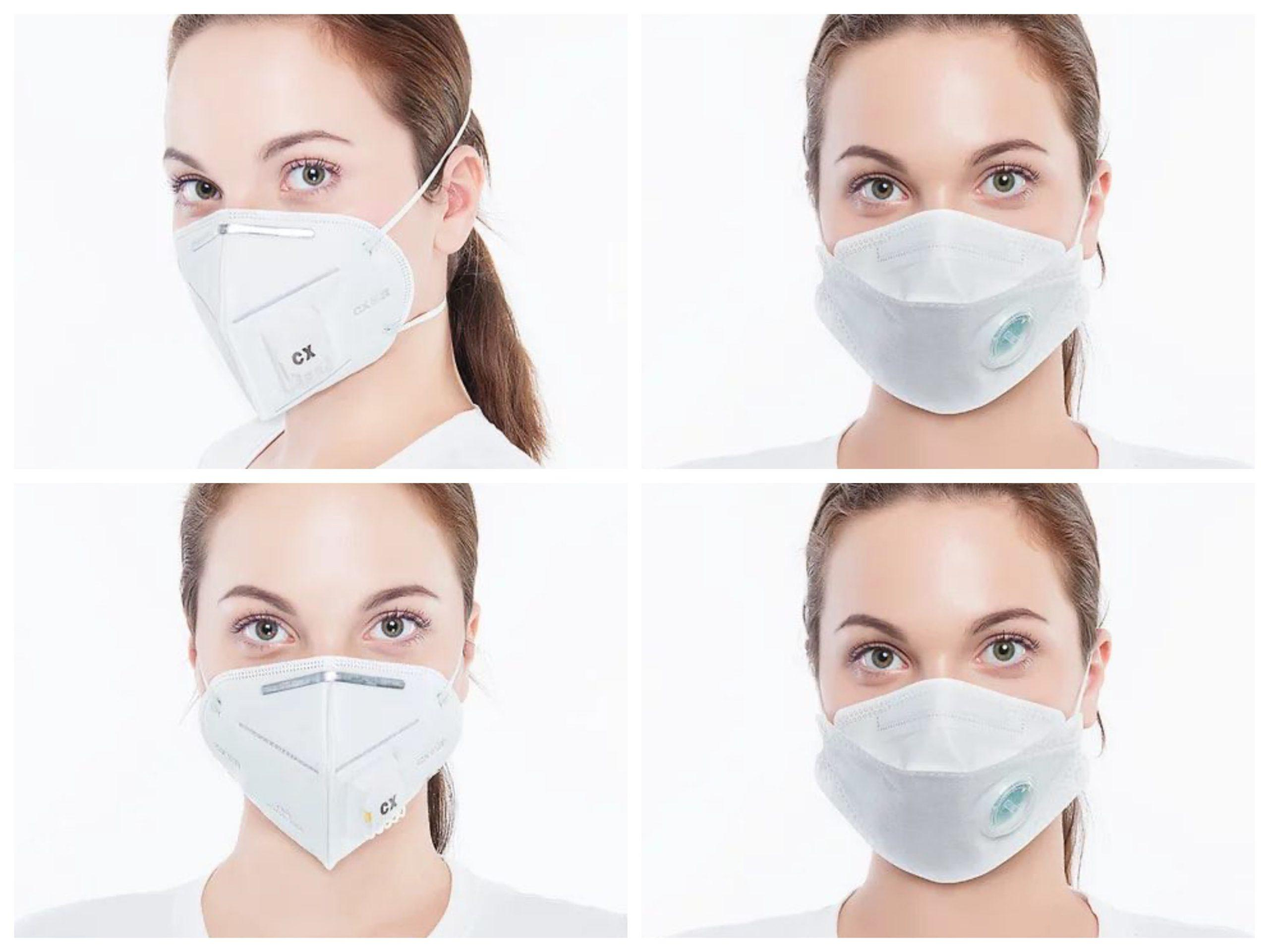Wearing Mask: (110, 0, 578, 459), (762, 504, 1217, 952), (115, 469, 536, 952), (764, 3, 1160, 454)
